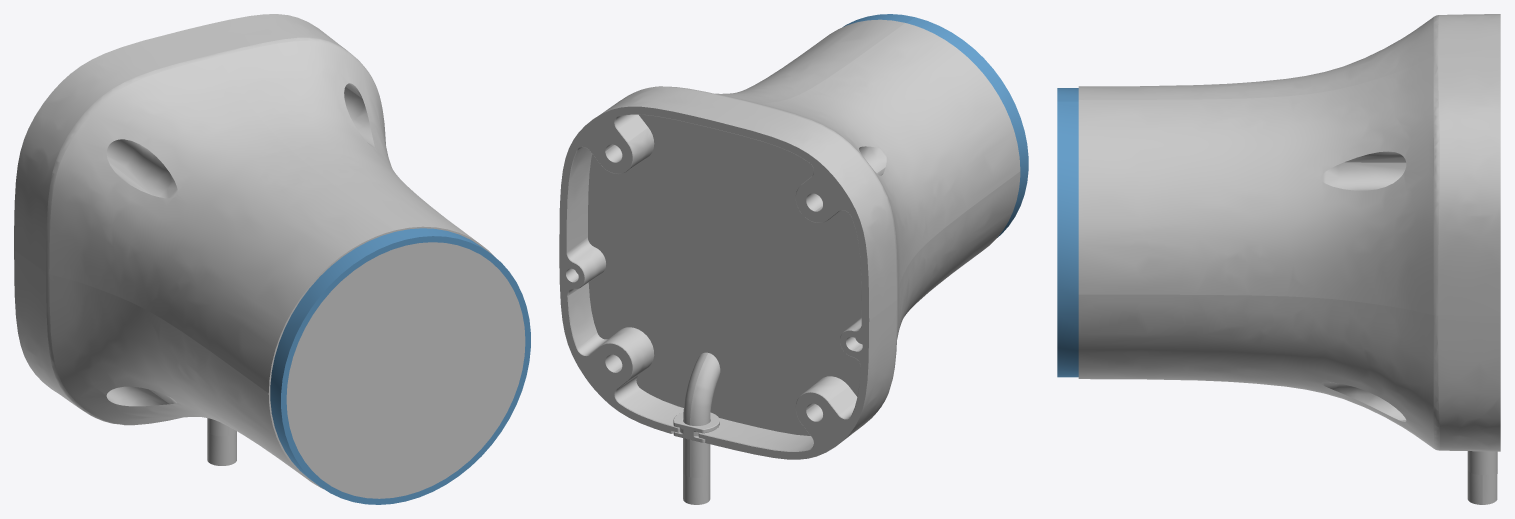
The model's file is NOVA2_base.gltf.
3 renders of one model, left to right at view 1: azimuth 30°, elevation 25°; view 2: azimuth 150°, elevation 25°; view 3: azimuth 270°, elevation 25°, orthographic. The views are drawn at different scales.
Visible parts, largest first — view 1: BASE-PART1, BASE-PART3, BASE-PART4; view 2: BASE-PART1, BASE-PART4, BASE-PART3, BASE-PART2; view 3: BASE-PART1, BASE-PART3, BASE-PART4.
Part boxes in pixels (x1=…): BASE-PART1: x1=14, y1=14, x2=525, y2=498; BASE-PART3: x1=270, y1=228, x2=530, y2=504; BASE-PART4: x1=207, y1=418, x2=236, y2=465; BASE-PART1: x1=559, y1=19, x2=1020, y2=459; BASE-PART4: x1=683, y1=352, x2=720, y2=504; BASE-PART3: x1=842, y1=14, x2=1028, y2=237; BASE-PART2: x1=673, y1=412, x2=719, y2=442; BASE-PART1: x1=1078, y1=14, x2=1500, y2=451; BASE-PART3: x1=1057, y1=88, x2=1078, y2=377; BASE-PART4: x1=1467, y1=451, x2=1497, y2=504.
Size of the model in its own units: 0.12 by 0.1445 by 0.1348.
